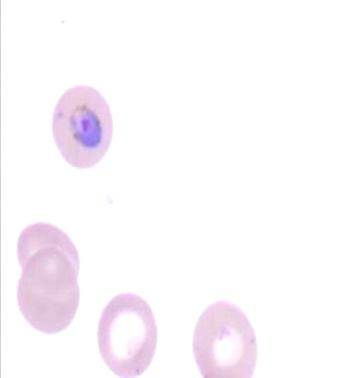Infected: (50, 83, 113, 170)
Uninfected: (14, 248, 83, 335), (96, 291, 160, 378), (191, 300, 258, 377), (18, 222, 80, 287)
